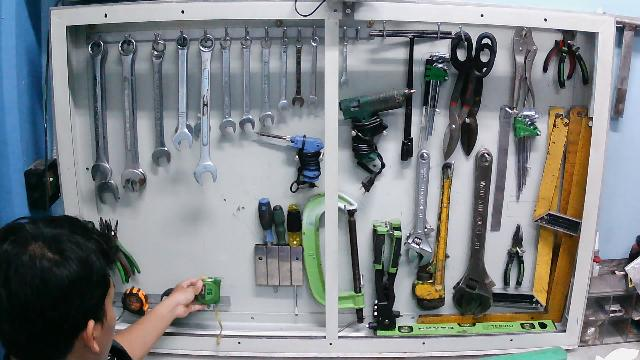meteran: (187, 271, 231, 346)
